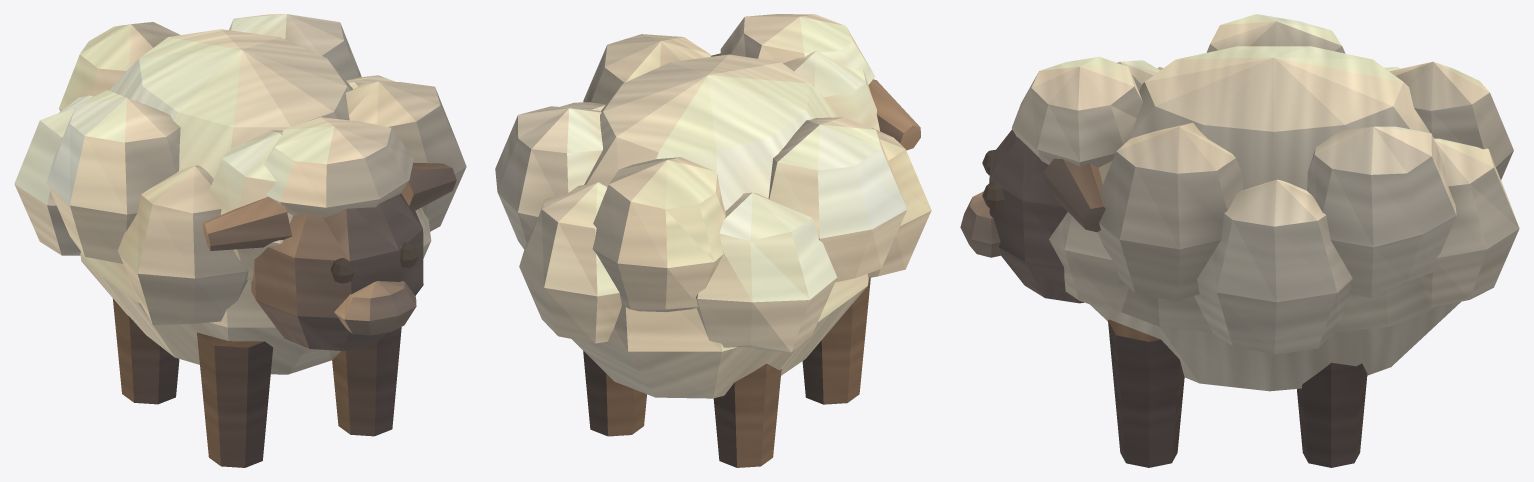
Rendered from farm_sheep.glb.
3 views of the same model, side by side, from view 1: azimuth 30°, elevation 25°; view 2: azimuth 150°, elevation 25°; view 3: azimuth 270°, elevation 25° (orthographic). The views are drawn at different scales.
Visible parts, largest first — view 1: Schaf · Wollige Weidenachbarin; view 2: Schaf · Wollige Weidenachbarin; view 3: Schaf · Wollige Weidenachbarin.
Boxes of the visible parts, x1,y1,x2,y2 form: Schaf · Wollige Weidenachbarin: (14,14,466,467); Schaf · Wollige Weidenachbarin: (495,14,931,467); Schaf · Wollige Weidenachbarin: (960,14,1519,467).
Bounding box in the file's own units: 0.9043 × 0.794 × 1.1.
2 materials, 1 textured.
